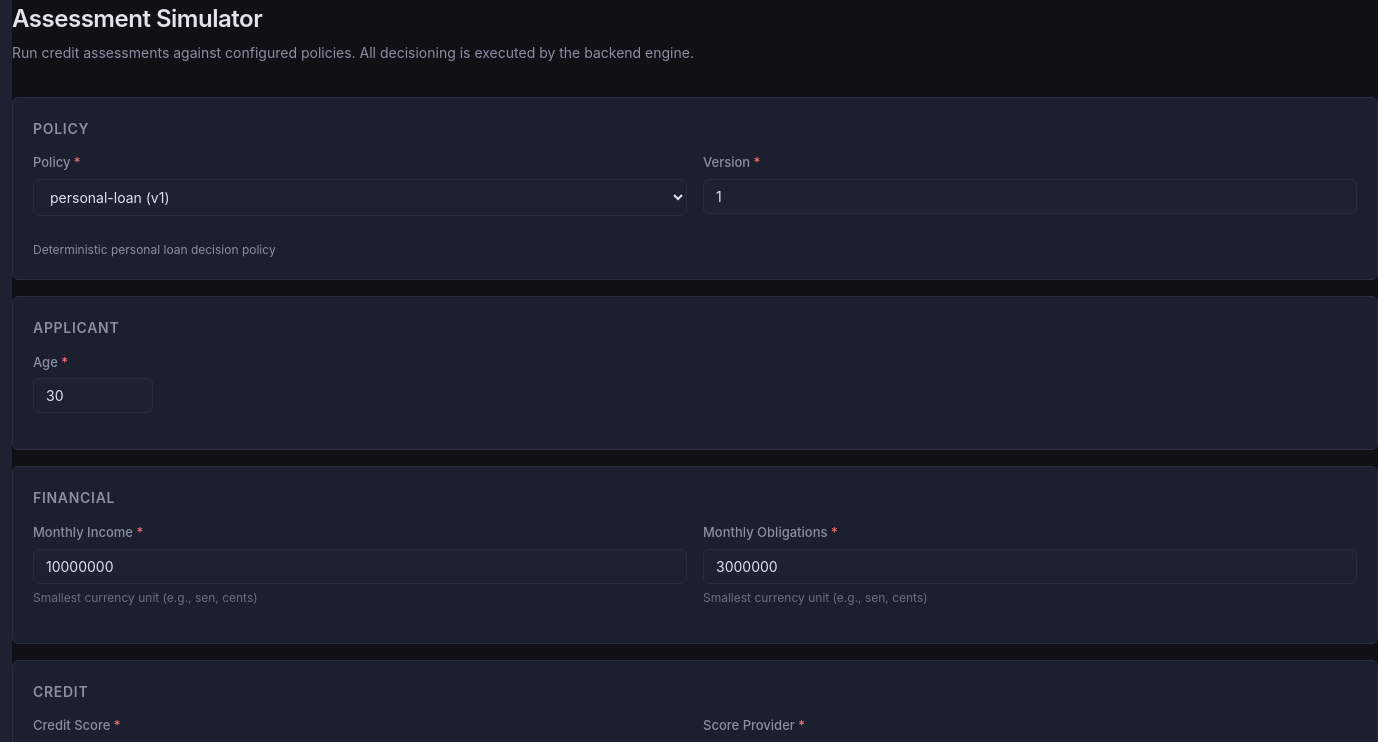
Test case: NewAssessment (Assessment Simulator) › policy selector updates version when policy changes
Select "business-loan (v2)" in the dropdown labelled "Policy" at x=360, y=198, box x1=33 y1=179 x2=687 y2=216
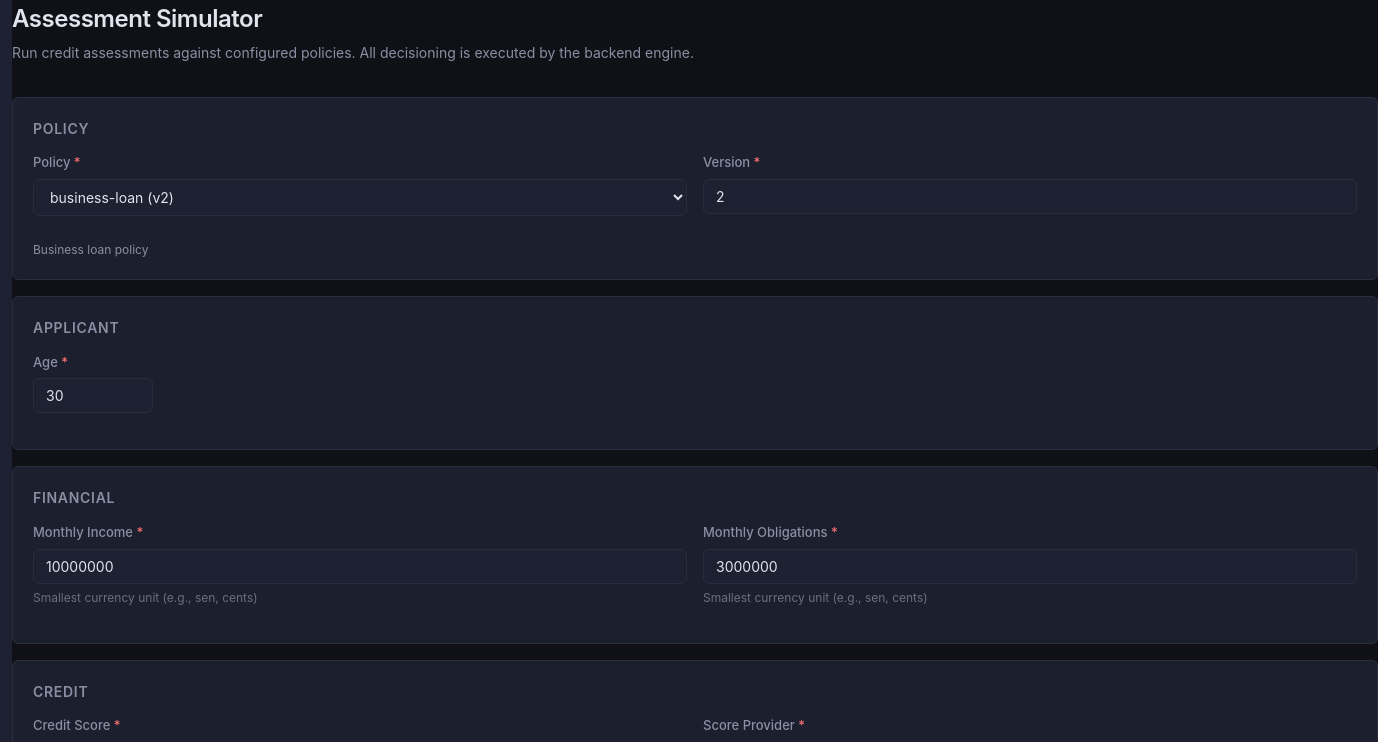
Now the number field labelled "Version" holds "2", box x1=703 y1=179 x2=1357 y2=214
